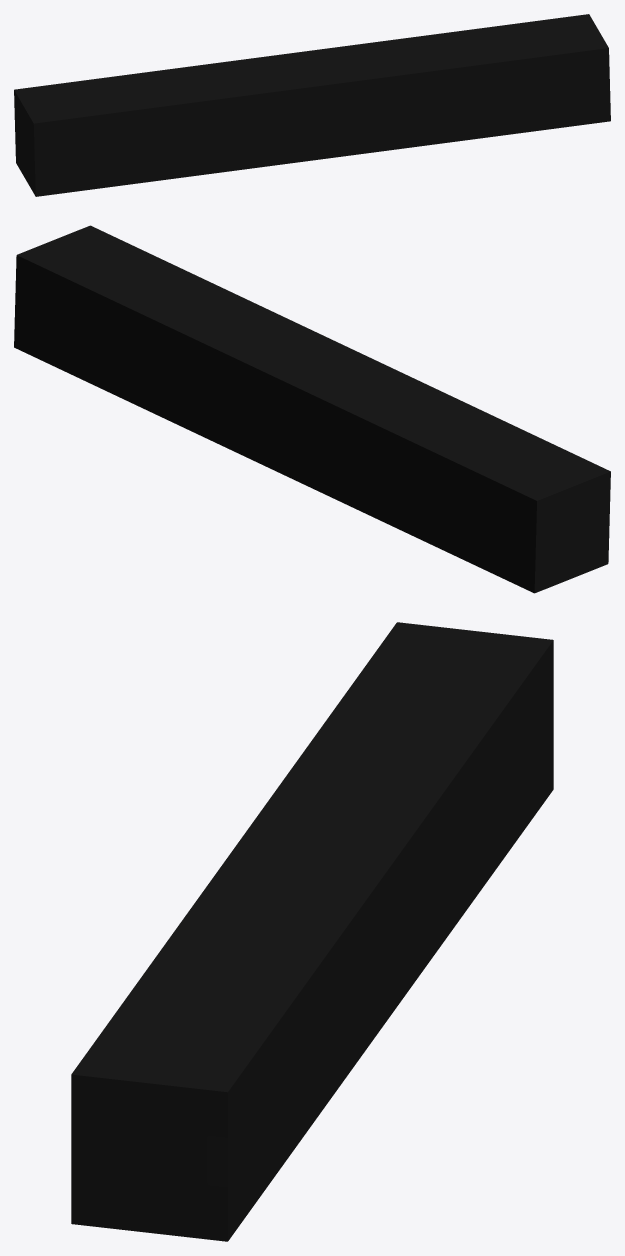
Rendered from frame__rear_brace_1.glb.
The picture shows the model from 3 angles, top to bottom: view 1: azimuth 30°, elevation 25°; view 2: azimuth 150°, elevation 25°; view 3: azimuth 270°, elevation 25°; orthographic projection. The views are drawn at different scales.
Visible parts, largest first — view 1: world; view 2: world; view 3: world.
Part boxes in pixels (x1,y1,x2,y2): world: (14, 14, 610, 196); world: (14, 225, 610, 593); world: (71, 622, 553, 1241).
Bounding box in the file's own units: 0.3652 × 0.0604 × 0.1481.
1 material, 1 textured.
